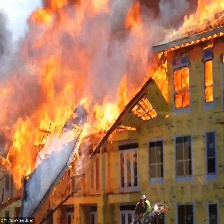fire: (2, 1, 223, 187)
